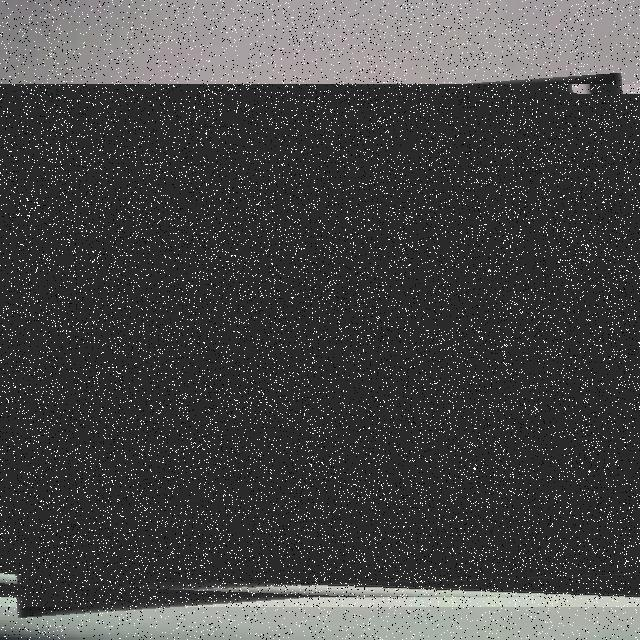dua ribu rupiah: (0, 84, 640, 607)
